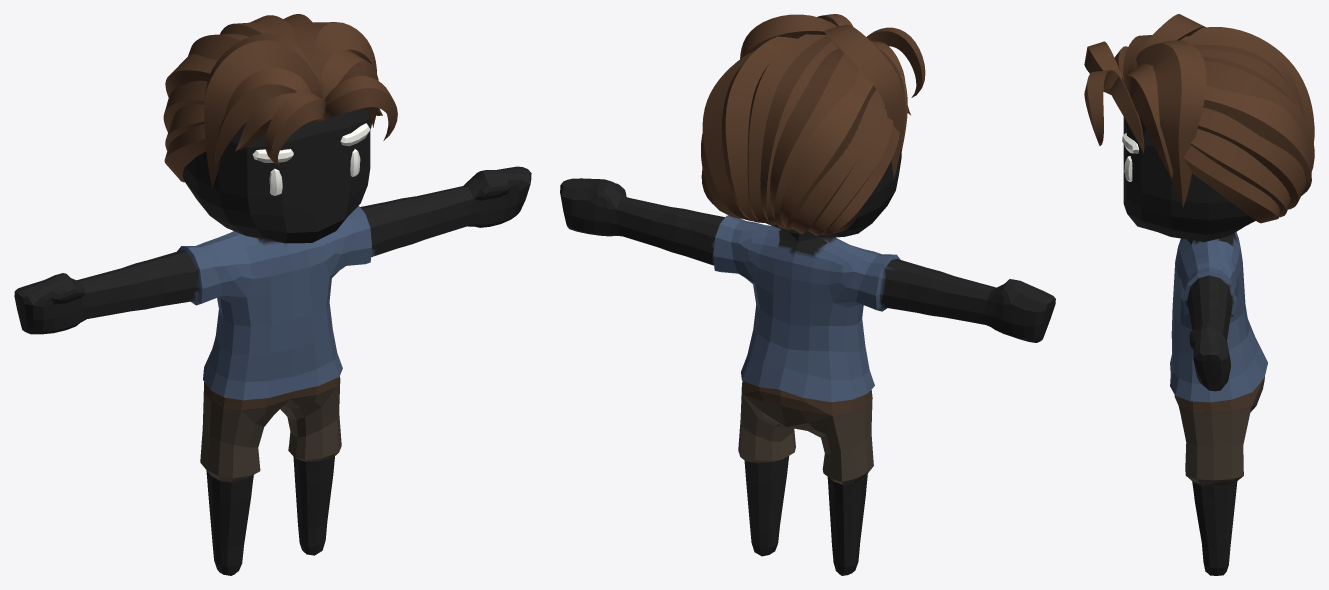
The model's file is Casual_Male.fbx.
3 renders of one model, left to right at view 1: azimuth 30°, elevation 25°; view 2: azimuth 150°, elevation 25°; view 3: azimuth 270°, elevation 25°, orthographic. The views are drawn at different scales.
Parts seen in each view (by area): view 1: Body; view 2: Body; view 3: Body.
Part boxes in pixels (box(x1,y1,x2,y2)): Body: box(14, 14, 531, 575); Body: box(560, 14, 1055, 575); Body: box(1084, 14, 1314, 575).
Bounding box in the file's own units: 324 × 333 × 132.
Materials: 1 (1 with a texture image).
